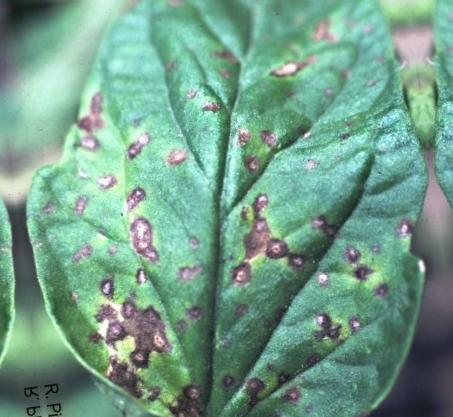Tomato Septoria leaf spot: (0, 0, 449, 417)
